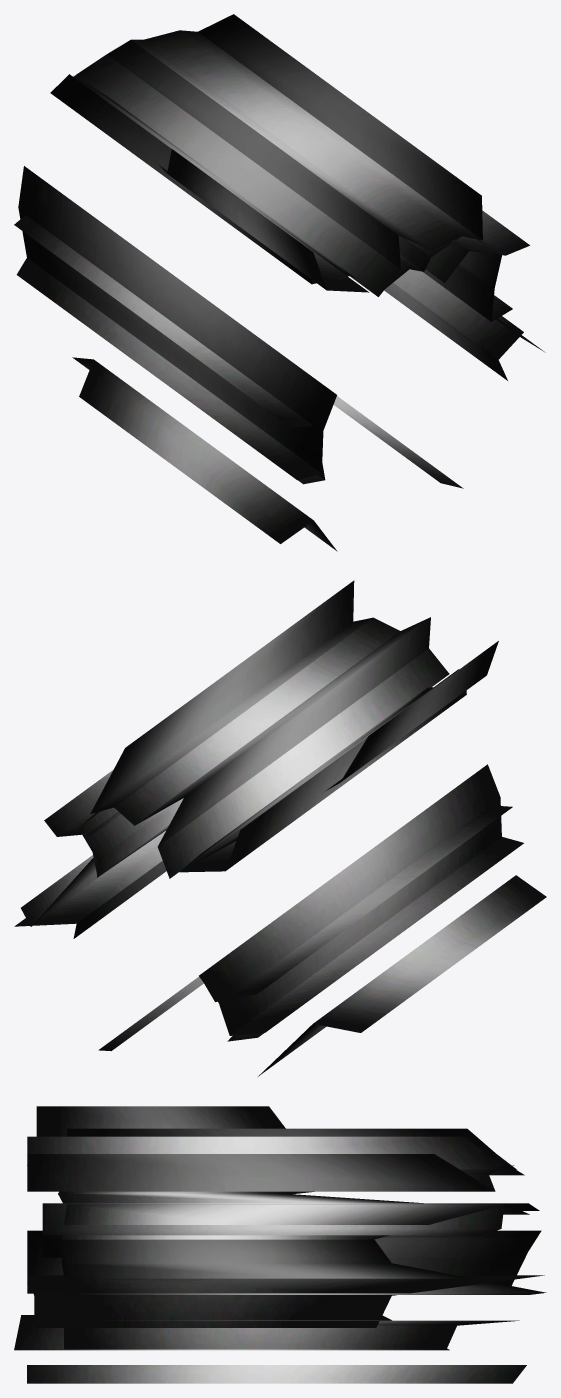
Rendered from vfx_kurp_0195.dae.
3 views of the same model, one above another, from view 1: azimuth 30°, elevation 25°; view 2: azimuth 150°, elevation 25°; view 3: azimuth 270°, elevation 25° (orthographic). The views are drawn at different scales.
Visible parts, largest first — view 1: vfx_kurp_0195; view 2: vfx_kurp_0195; view 3: vfx_kurp_0195.
Part boxes in pixels (bbox=[...]): vfx_kurp_0195: bbox=[14, 14, 545, 551]; vfx_kurp_0195: bbox=[14, 580, 546, 1076]; vfx_kurp_0195: bbox=[14, 1106, 546, 1383].
Size of the model in its own units: 7.86 by 16.1 by 8.57.
Materials: 1 (1 with a texture image).
